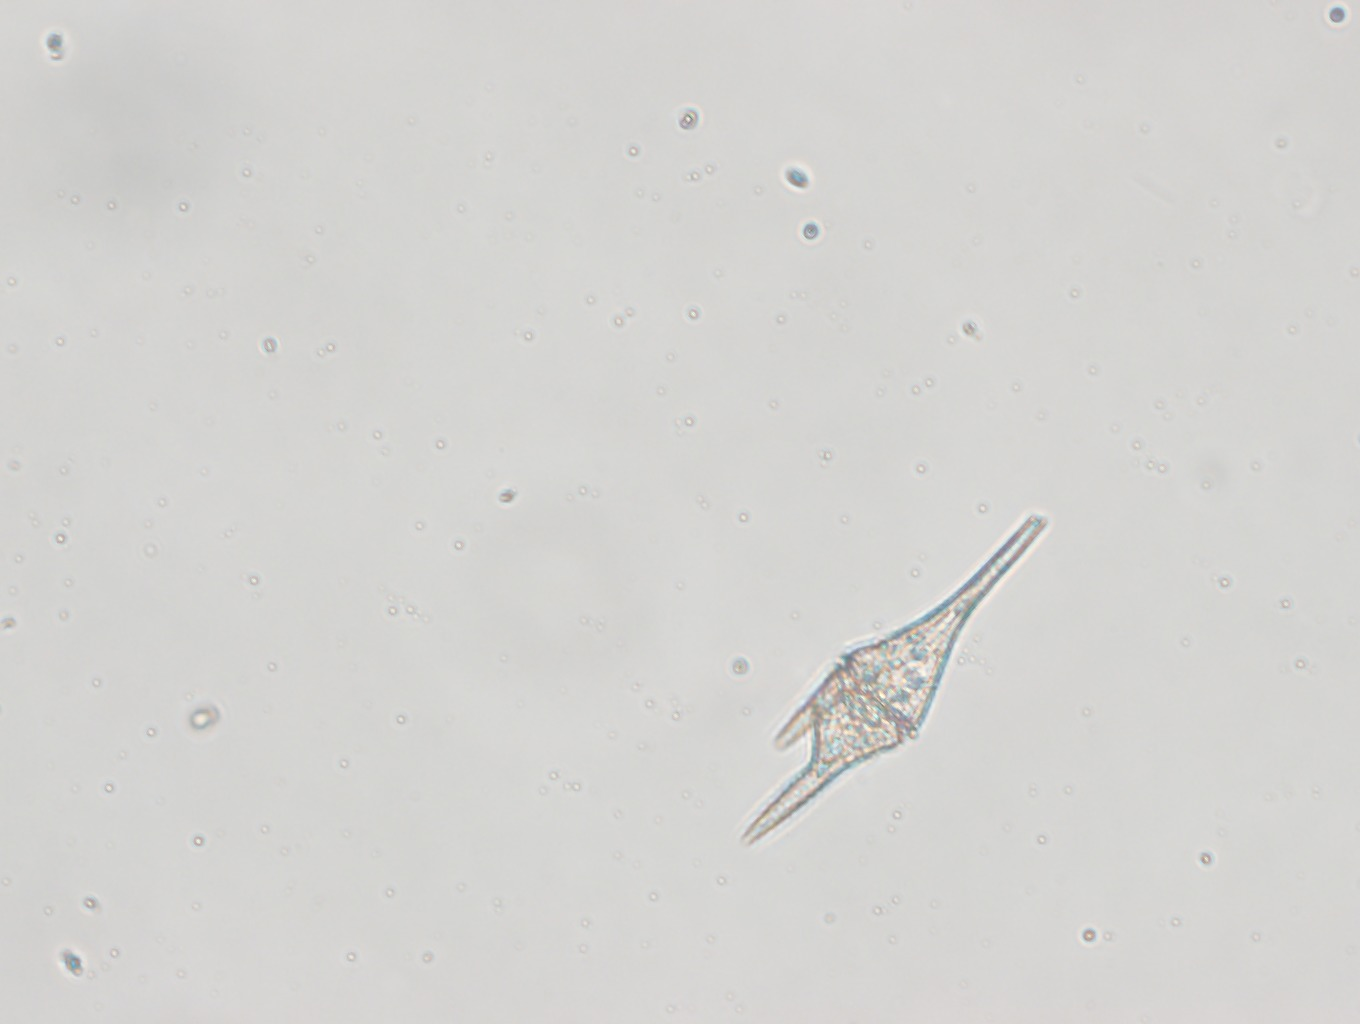ceratium furca: (732, 511, 1051, 849)
